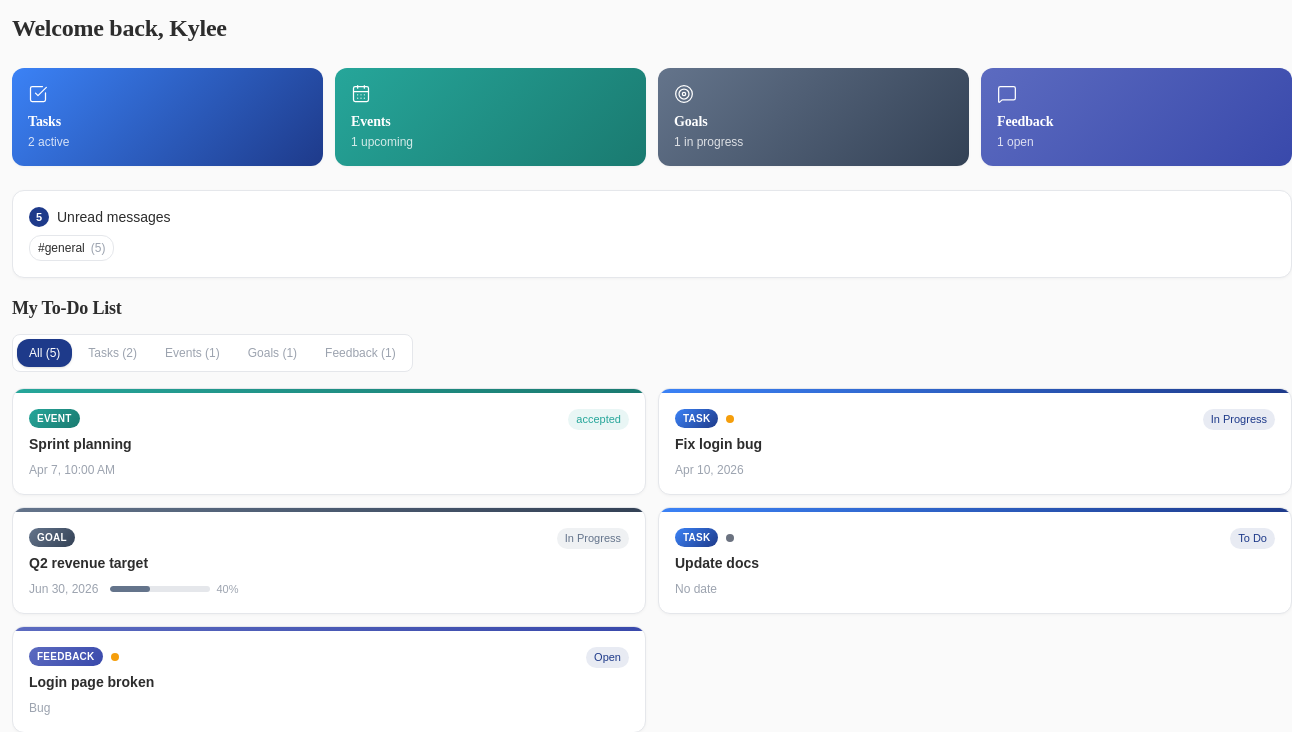
Test: Dashboard Page › filter tabs switch between All, Tasks, Events, Goals, and Feedback
Expected: the text "Fix login bug" is shown, [675, 436, 762, 452]
# Click Tasks tab
Click the button "Tasks (2)". click: coordinates (113, 353)
box: [76, 339, 149, 367]
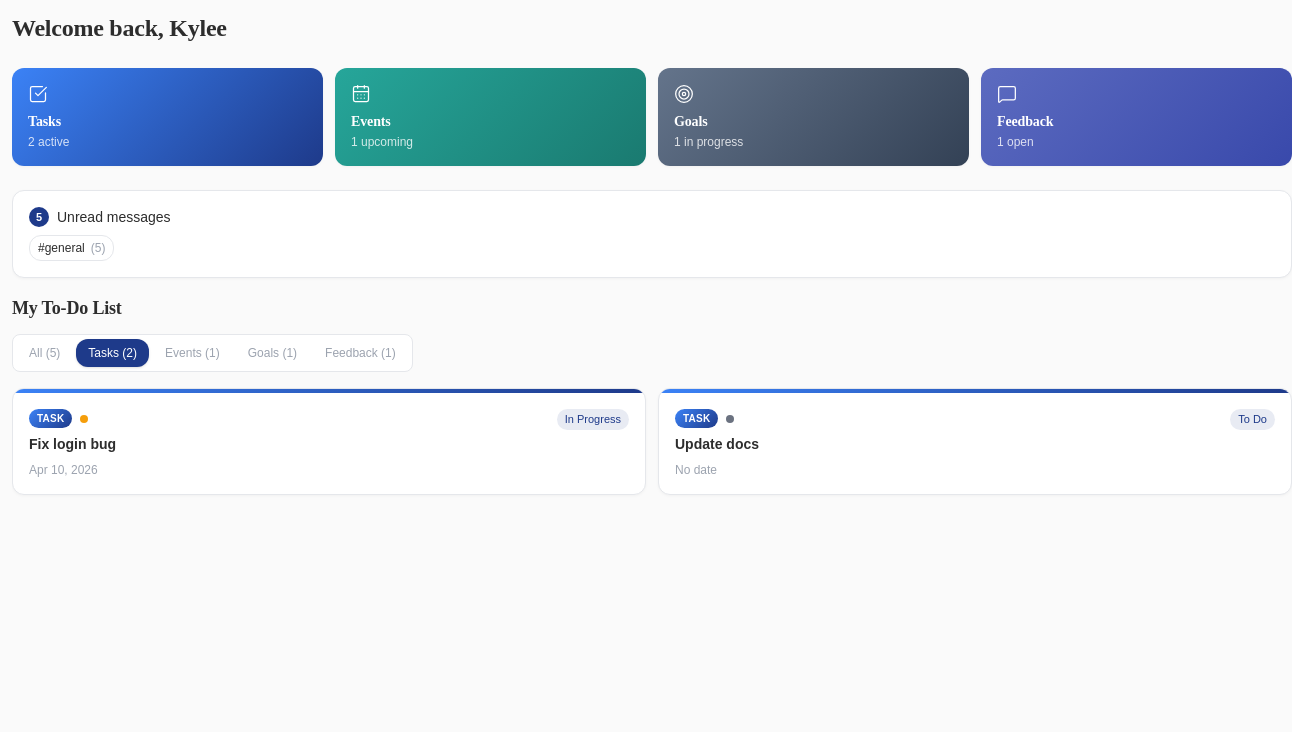
Expected: the text "Fix login bug" is shown, [29, 436, 116, 452]
Expected: the text "Sprint planning" is gone
# Click Events tab
Click the button "Events (1)". click: coordinates (192, 353)
box: [153, 339, 232, 367]
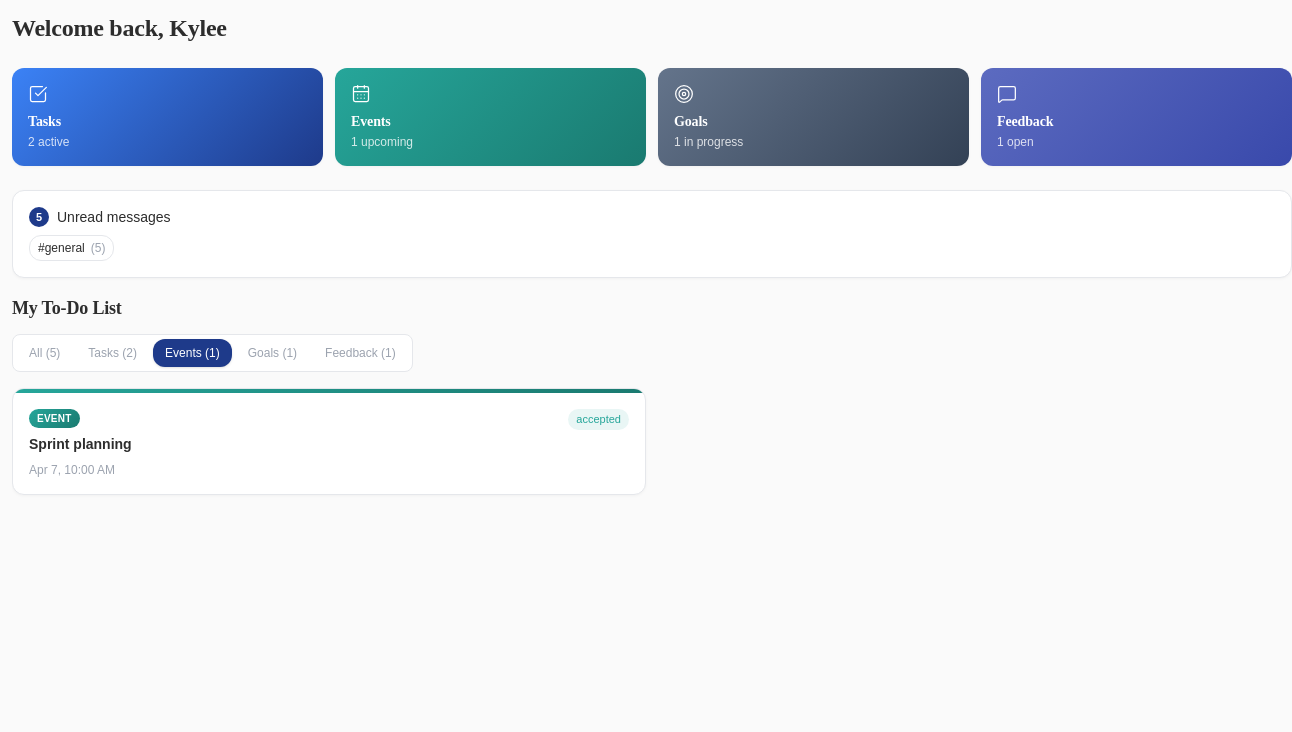
Expected: the text "Sprint planning" is shown, [29, 436, 132, 452]
Expected: the text "Fix login bug" is gone
# Click Goals tab
Click the button "Goals (1)". click: coordinates (272, 353)
box: [236, 339, 309, 367]
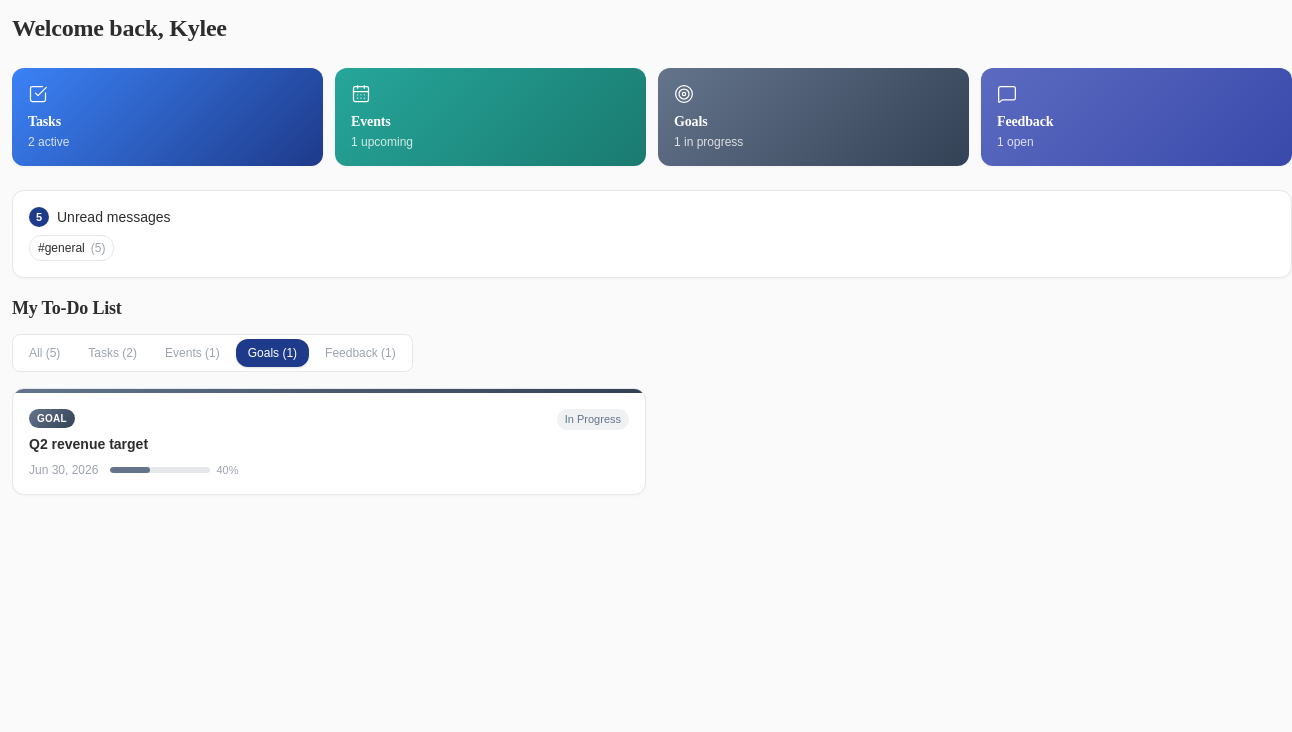
Expected: the text "Fix login bug" is not shown
Expected: the text "Q2 revenue target" is shown, [29, 436, 148, 452]
# Click Feedback tab
Click the button "Feedback (1)". click: coordinates (360, 353)
box: [313, 339, 408, 367]
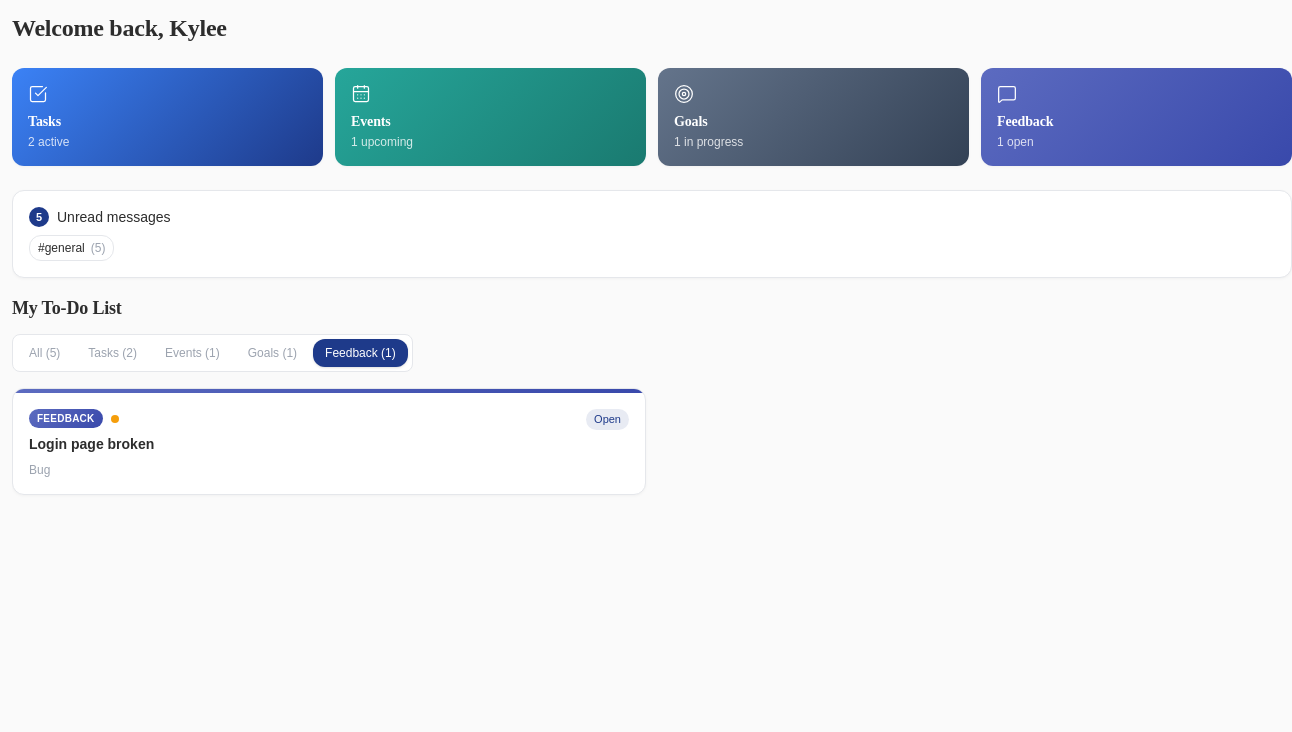
Expected: the text "Fix login bug" is not shown
Expected: the text "Login page broken" is shown, [29, 436, 154, 452]
# Click All tab
Click the button "All (5)". click: coordinates (45, 353)
box: [17, 339, 72, 367]
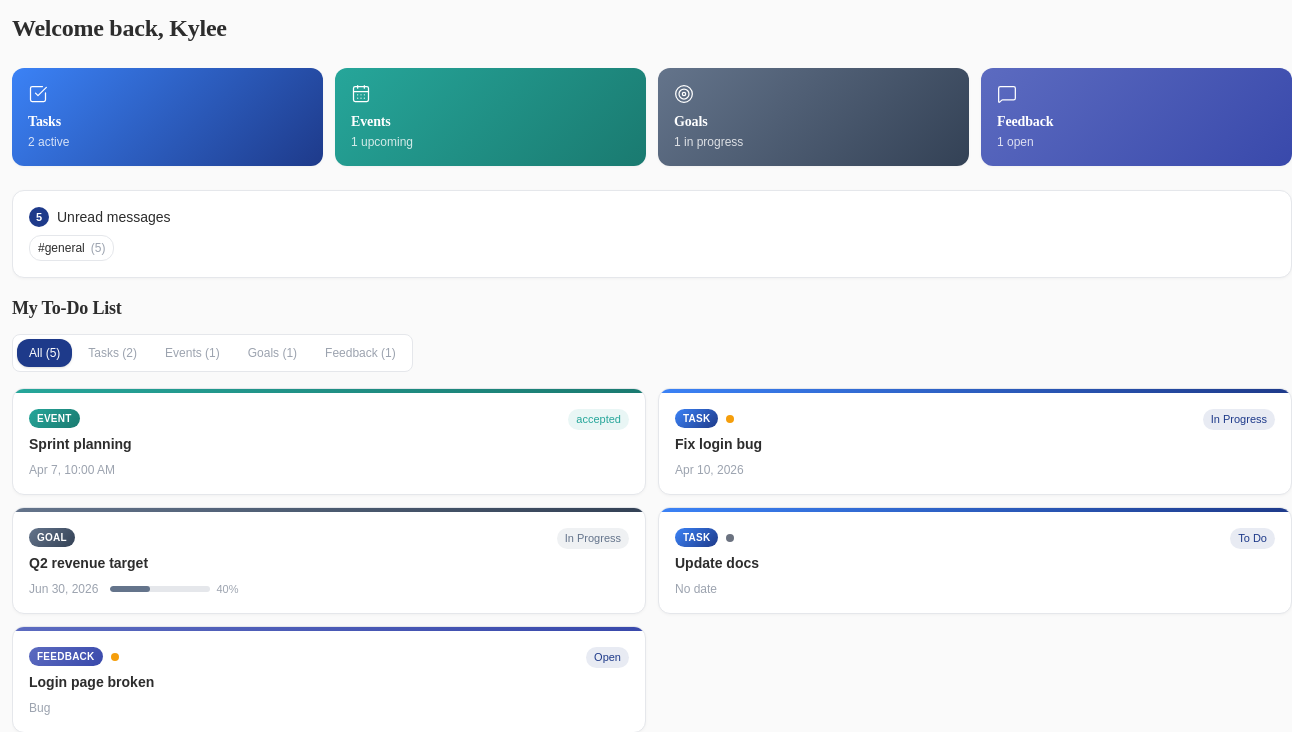
Expected: the text "Fix login bug" is shown, [675, 436, 762, 452]
Expected: the text "Sprint planning" is shown, [29, 436, 132, 452]
Expected: the text "Q2 revenue target" is shown, [29, 555, 148, 571]
